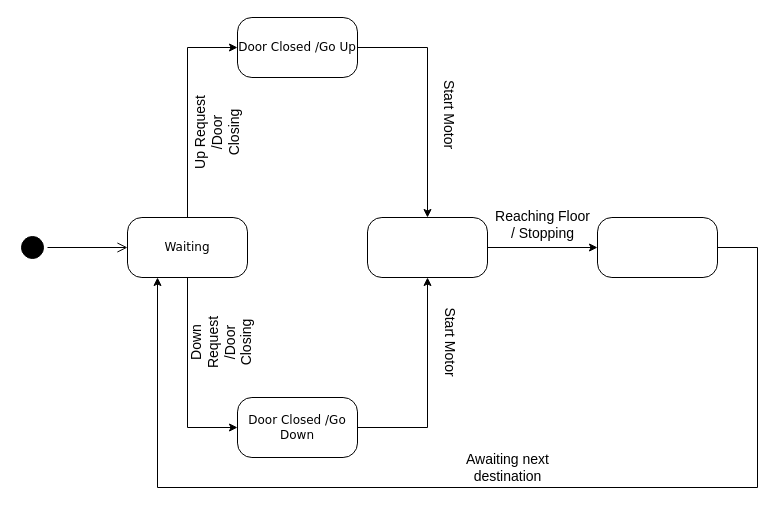
Some shapes in this 783 by 513 pixel diagram are drawn without their labels. The shapes that lost their labels are listed below. From the top down, each one's centre as x and y in pixels, then its label:
At point 427,247: "Moving".
At point 657,247: "Stopped".
